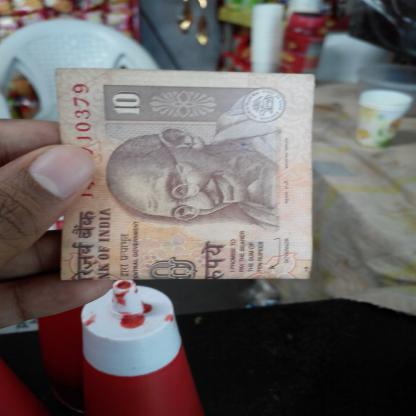Old10Front: (56, 66, 318, 283)
